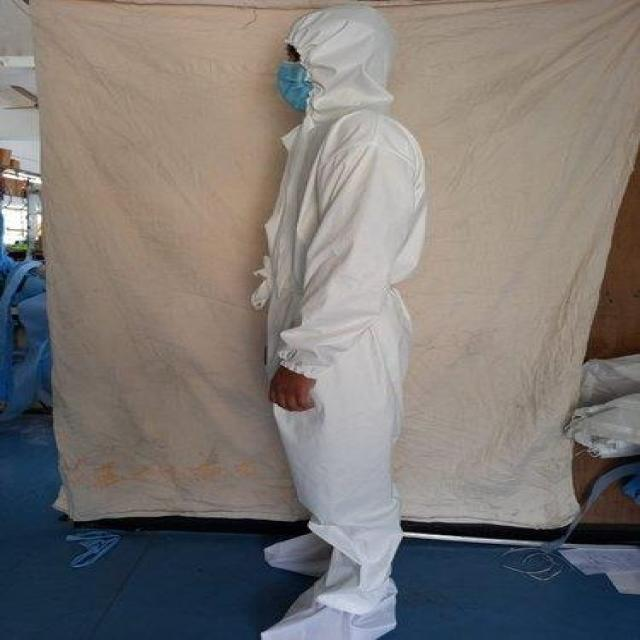Coverall: (251, 5, 437, 640)
Mask: (271, 58, 316, 106)
